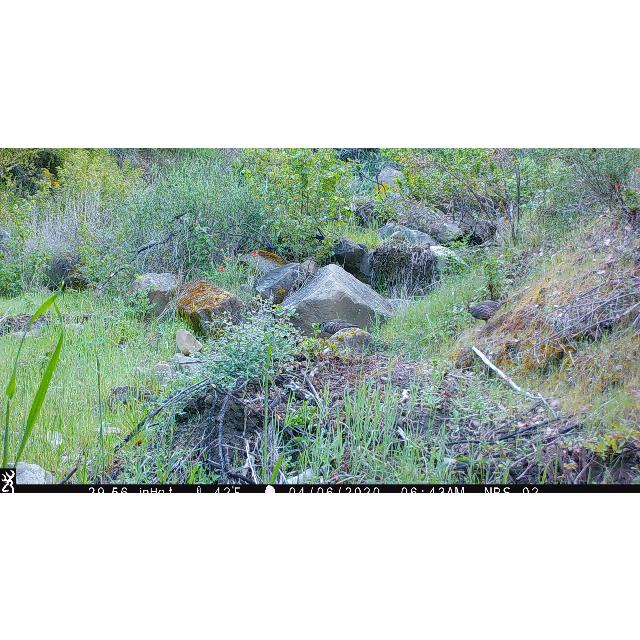animals: (466, 290, 528, 322), (318, 316, 362, 336)
